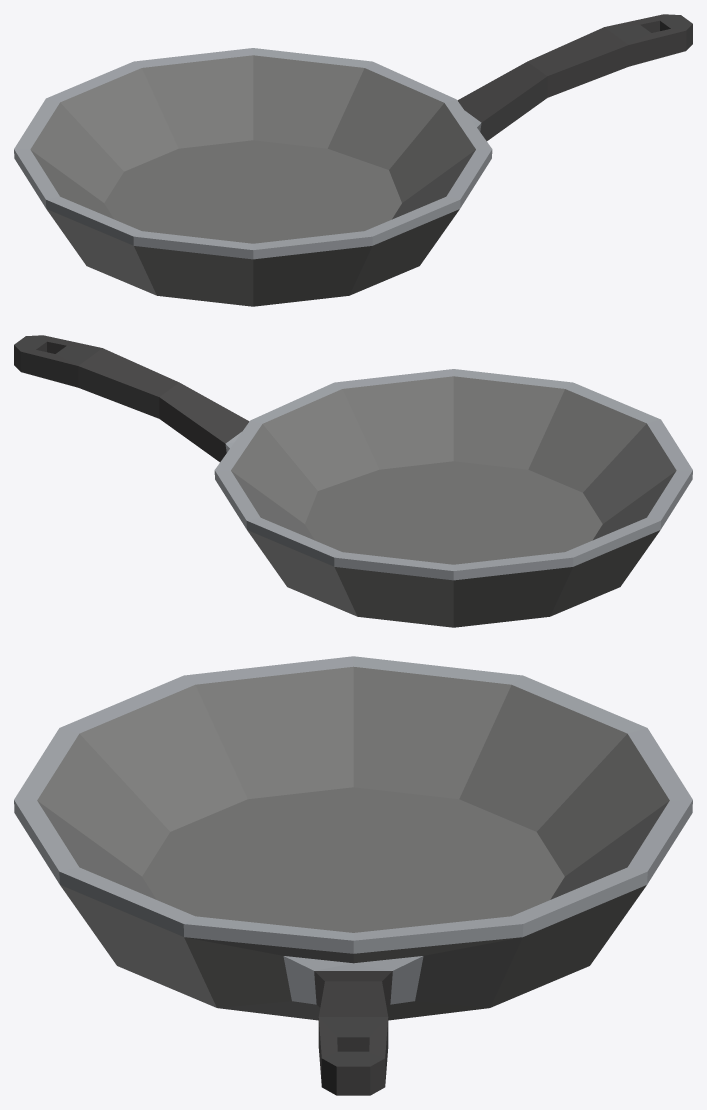
The model's file is SM_Prop_Pan_01.fbx.
3 renders of one model, top to bottom at view 1: azimuth 30°, elevation 25°; view 2: azimuth 150°, elevation 25°; view 3: azimuth 270°, elevation 25°, orthographic. The views are drawn at different scales.
Parts seen in each view (by area): view 1: SM_Prop_Pan_01; view 2: SM_Prop_Pan_01; view 3: SM_Prop_Pan_01.
Part boxes in pixels (x1,y1,x2,y2): SM_Prop_Pan_01: (14,14,692,306); SM_Prop_Pan_01: (14,335,692,627); SM_Prop_Pan_01: (14,656,692,1095).
Bounding box in the file's own units: 68.84 × 10.33 × 44.48.
